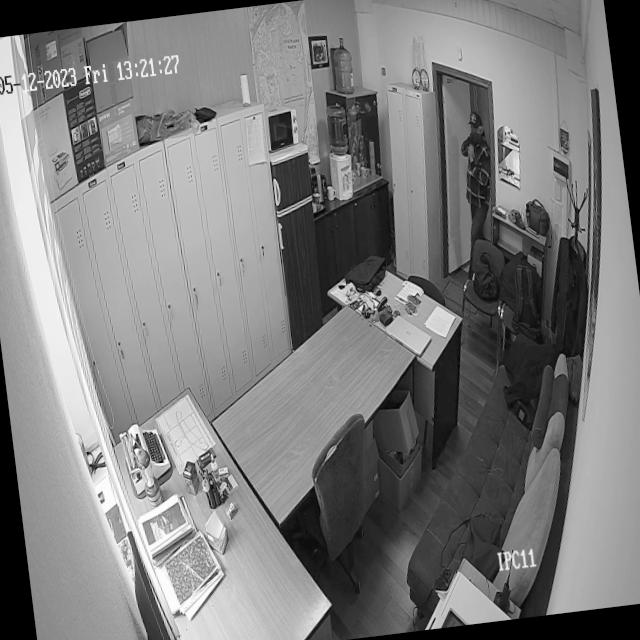gun: (471, 145, 481, 174)
person with a gun: (450, 96, 507, 266)
